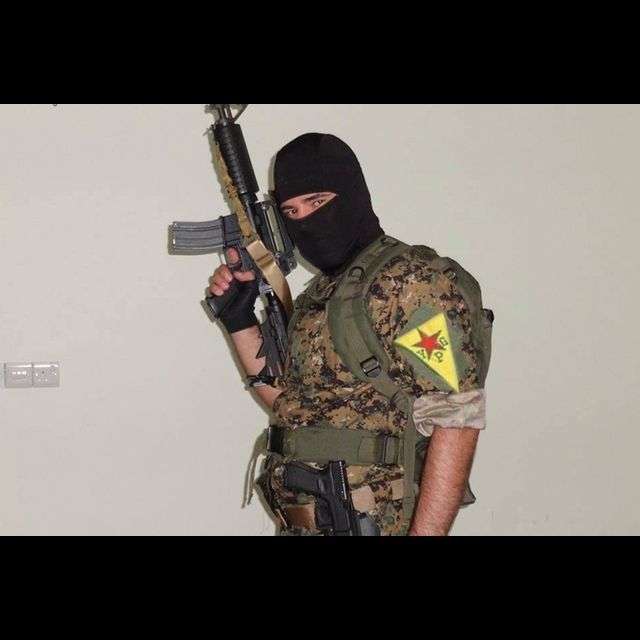YPG: (409, 321, 450, 369)
